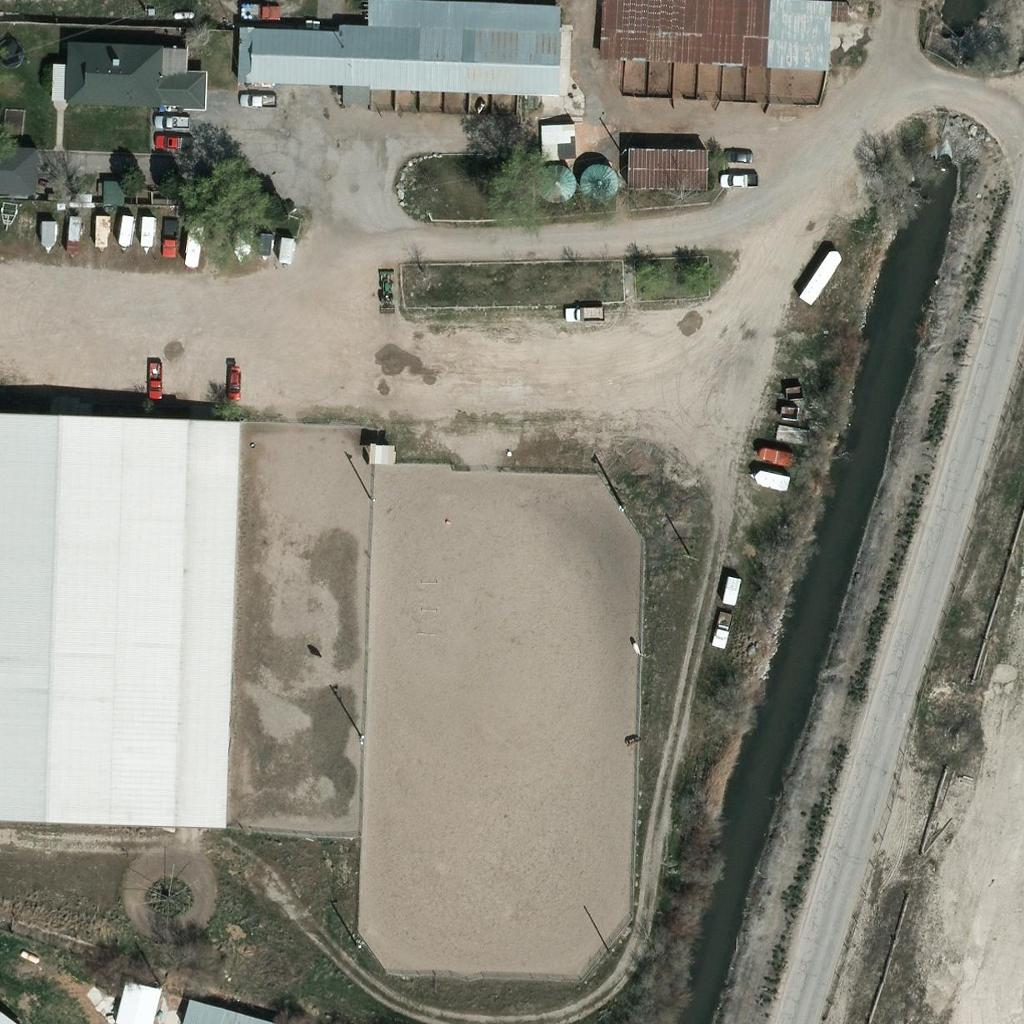car: (236, 83, 270, 117), (149, 105, 183, 139), (152, 125, 186, 159), (722, 138, 756, 172), (719, 164, 753, 198), (152, 226, 186, 260), (561, 296, 595, 330), (216, 365, 250, 399), (137, 367, 171, 401), (705, 615, 739, 649), (247, 0, 281, 28)
